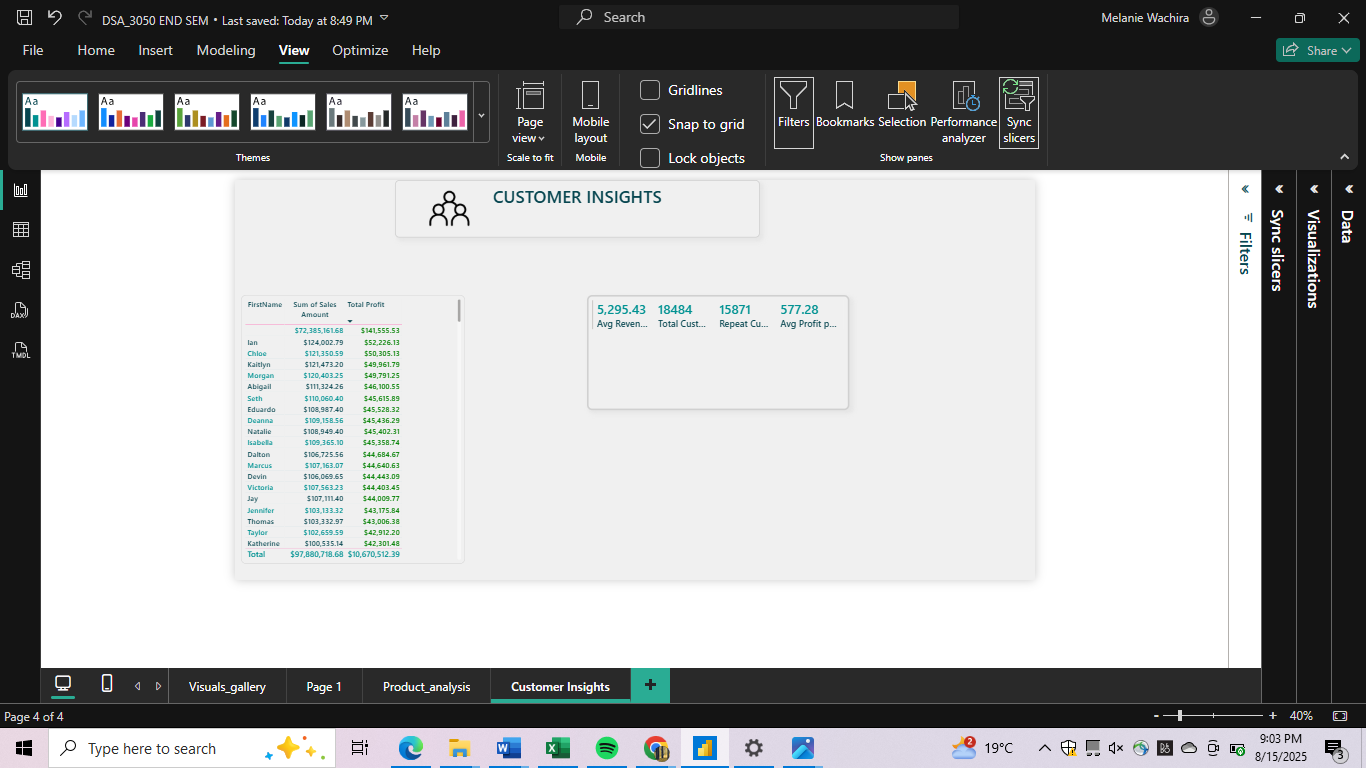

The page's visual inventory and layout, read from the dashboard file:
{"tool":"powerbi","page":{"name":"Customer Insights","canvas":[2000,1000],"ordinal":3},"visuals":[{"type":"textbox","box":[400,0,912,144],"z":0,"group":"g1"},{"type":"tableEx","fields":{"Values":["Customer_data.FirstName","Sum(Sales_data.Sales Amount)","Sales_data.Total Profit"]},"box":[16,288,560,672],"z":0},{"type":"image","box":[400,16,272,112],"z":1000,"group":"g1"},{"type":"multiRowCard","fields":{"Values":["Customer_data.Avg Revenue per Customer","Customer_data.Total Customers","Customer_data.Repeat Customers","Customer_data.Avg Profit per Customer"]},"box":[880,288,656,288],"z":1000},{"type":"group","id":"g1","title":"Group 1","box":[400,0,912,144],"z":2000}]}

Visuals, with their boxes on the page's 2000x1000 design canvas (x1, y1, x2, y2). These are canvas units, not pixel positions in the 1366x768 screenshot, which may show the page scaled, cropped or inside an application window:
textbox: <region>400, 0, 1312, 144</region>
tableEx - Customer_data.FirstName x Sum(Sales_data.Sales Amount): <region>16, 288, 576, 960</region>
image: <region>400, 16, 672, 128</region>
multiRowCard - Customer_data.Avg Revenue per Customer x Customer_data.Total Customers: <region>880, 288, 1536, 576</region>
"Group 1" group: <region>400, 0, 1312, 144</region>
